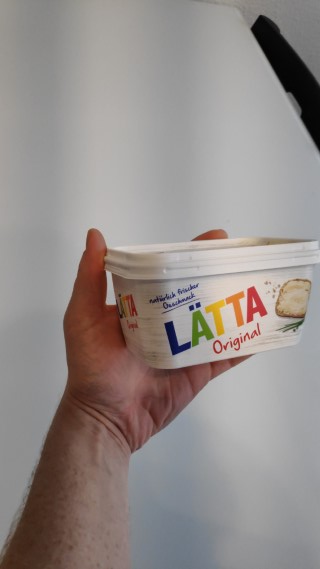laetta: (103, 233, 320, 370)
